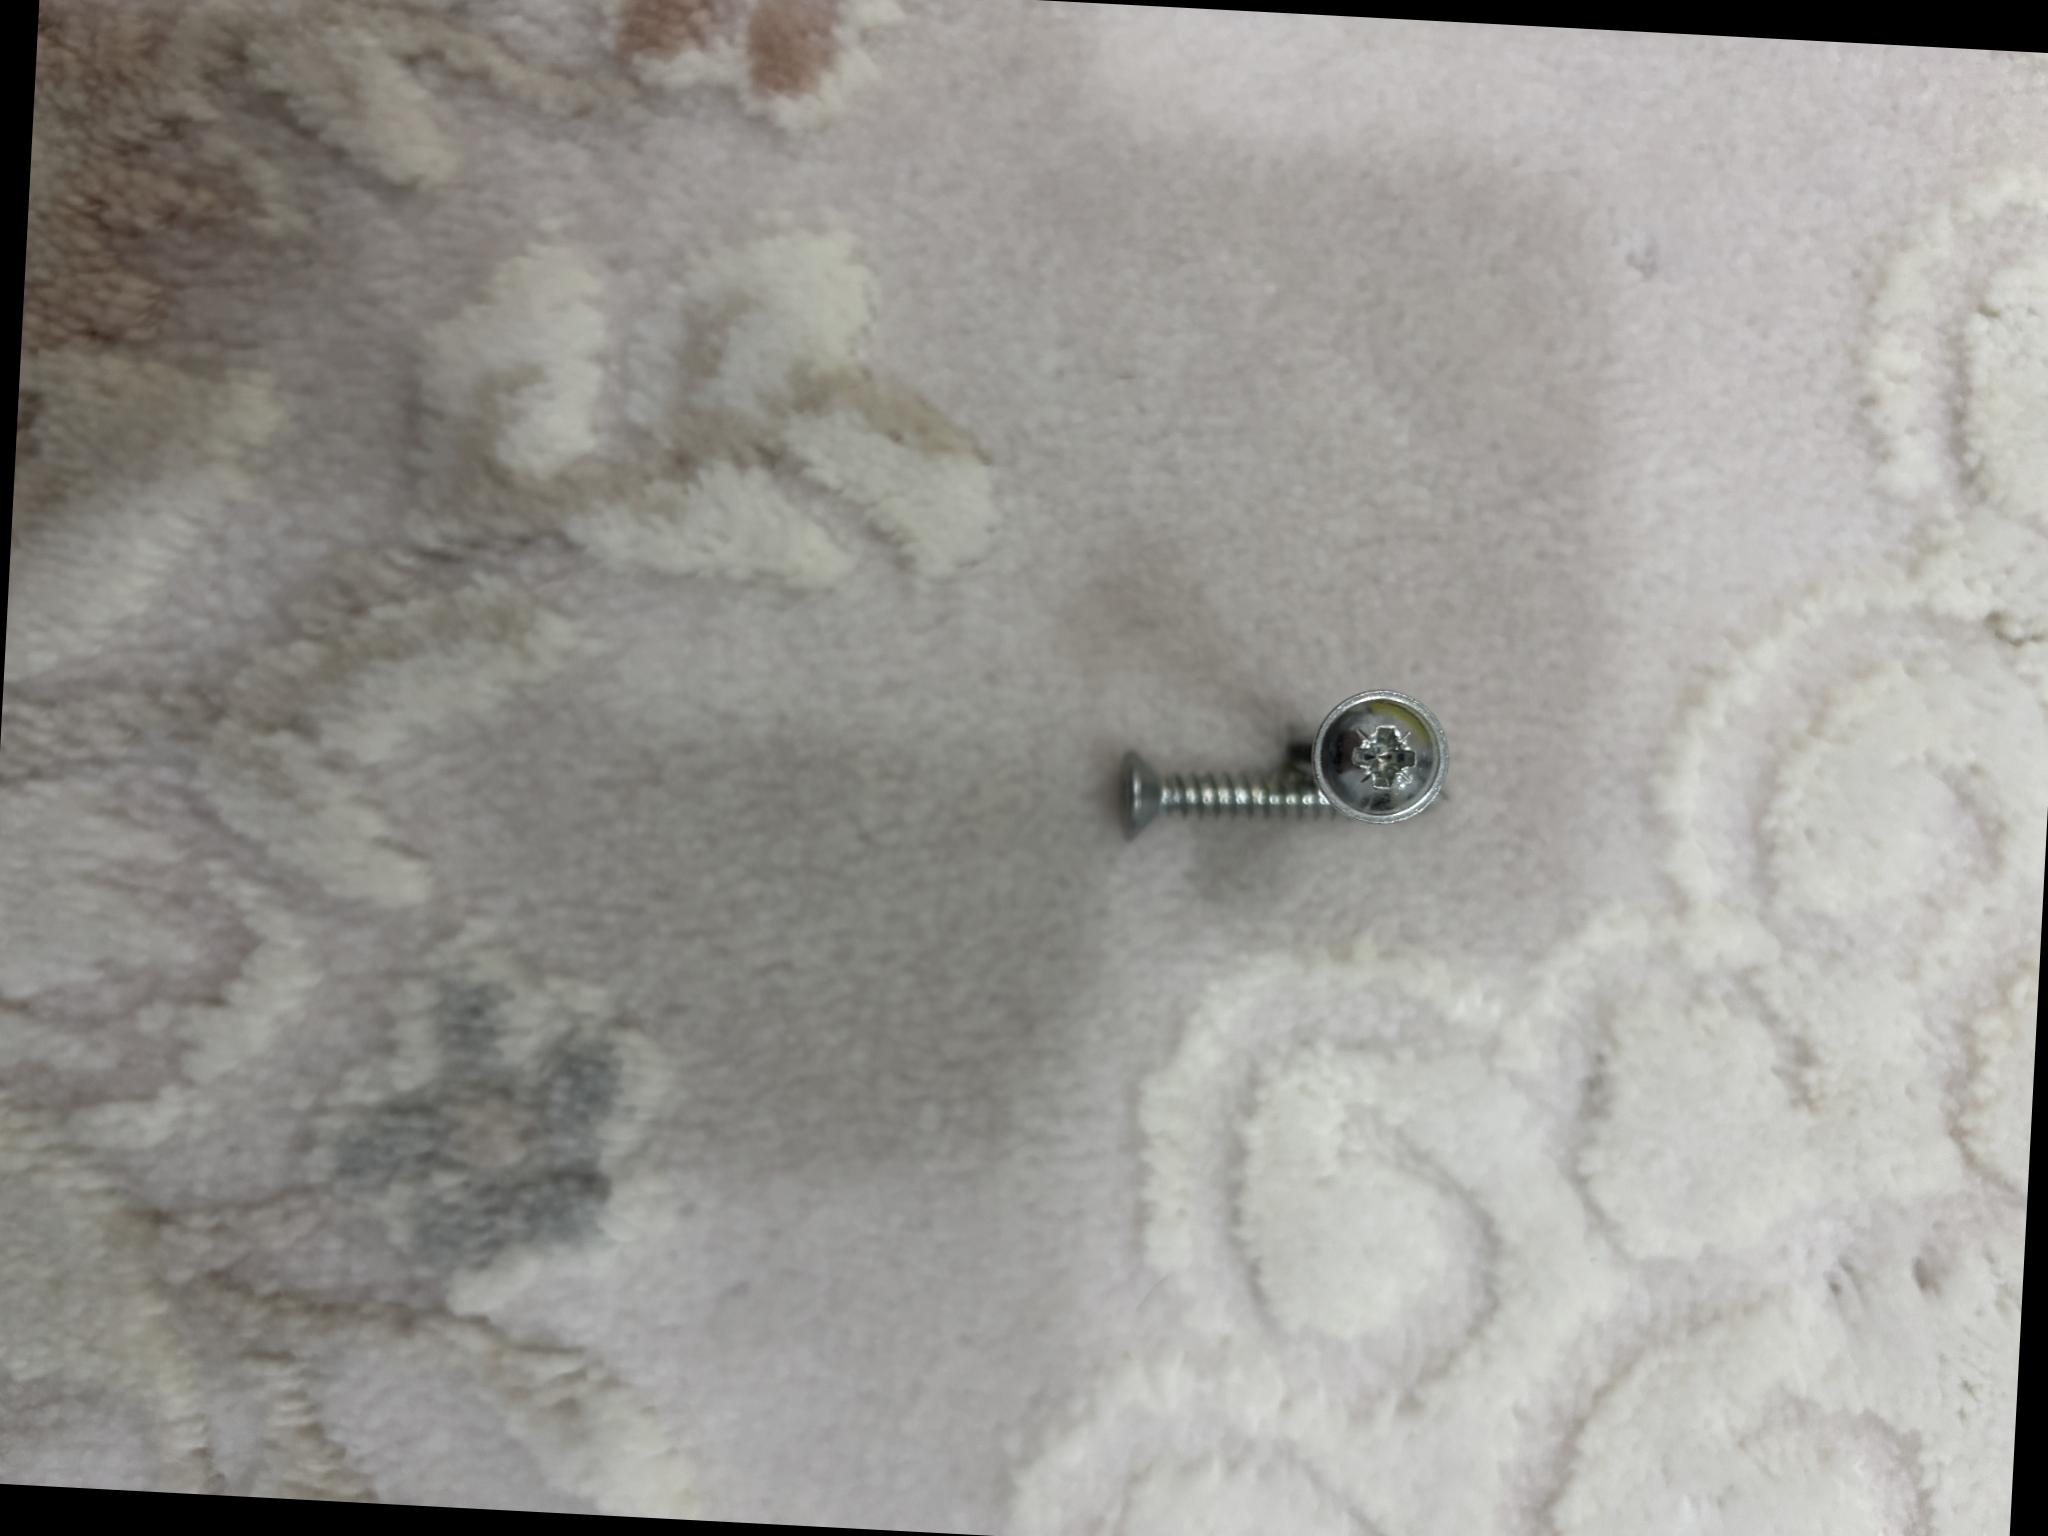PZ: (1240, 813, 1371, 947)
